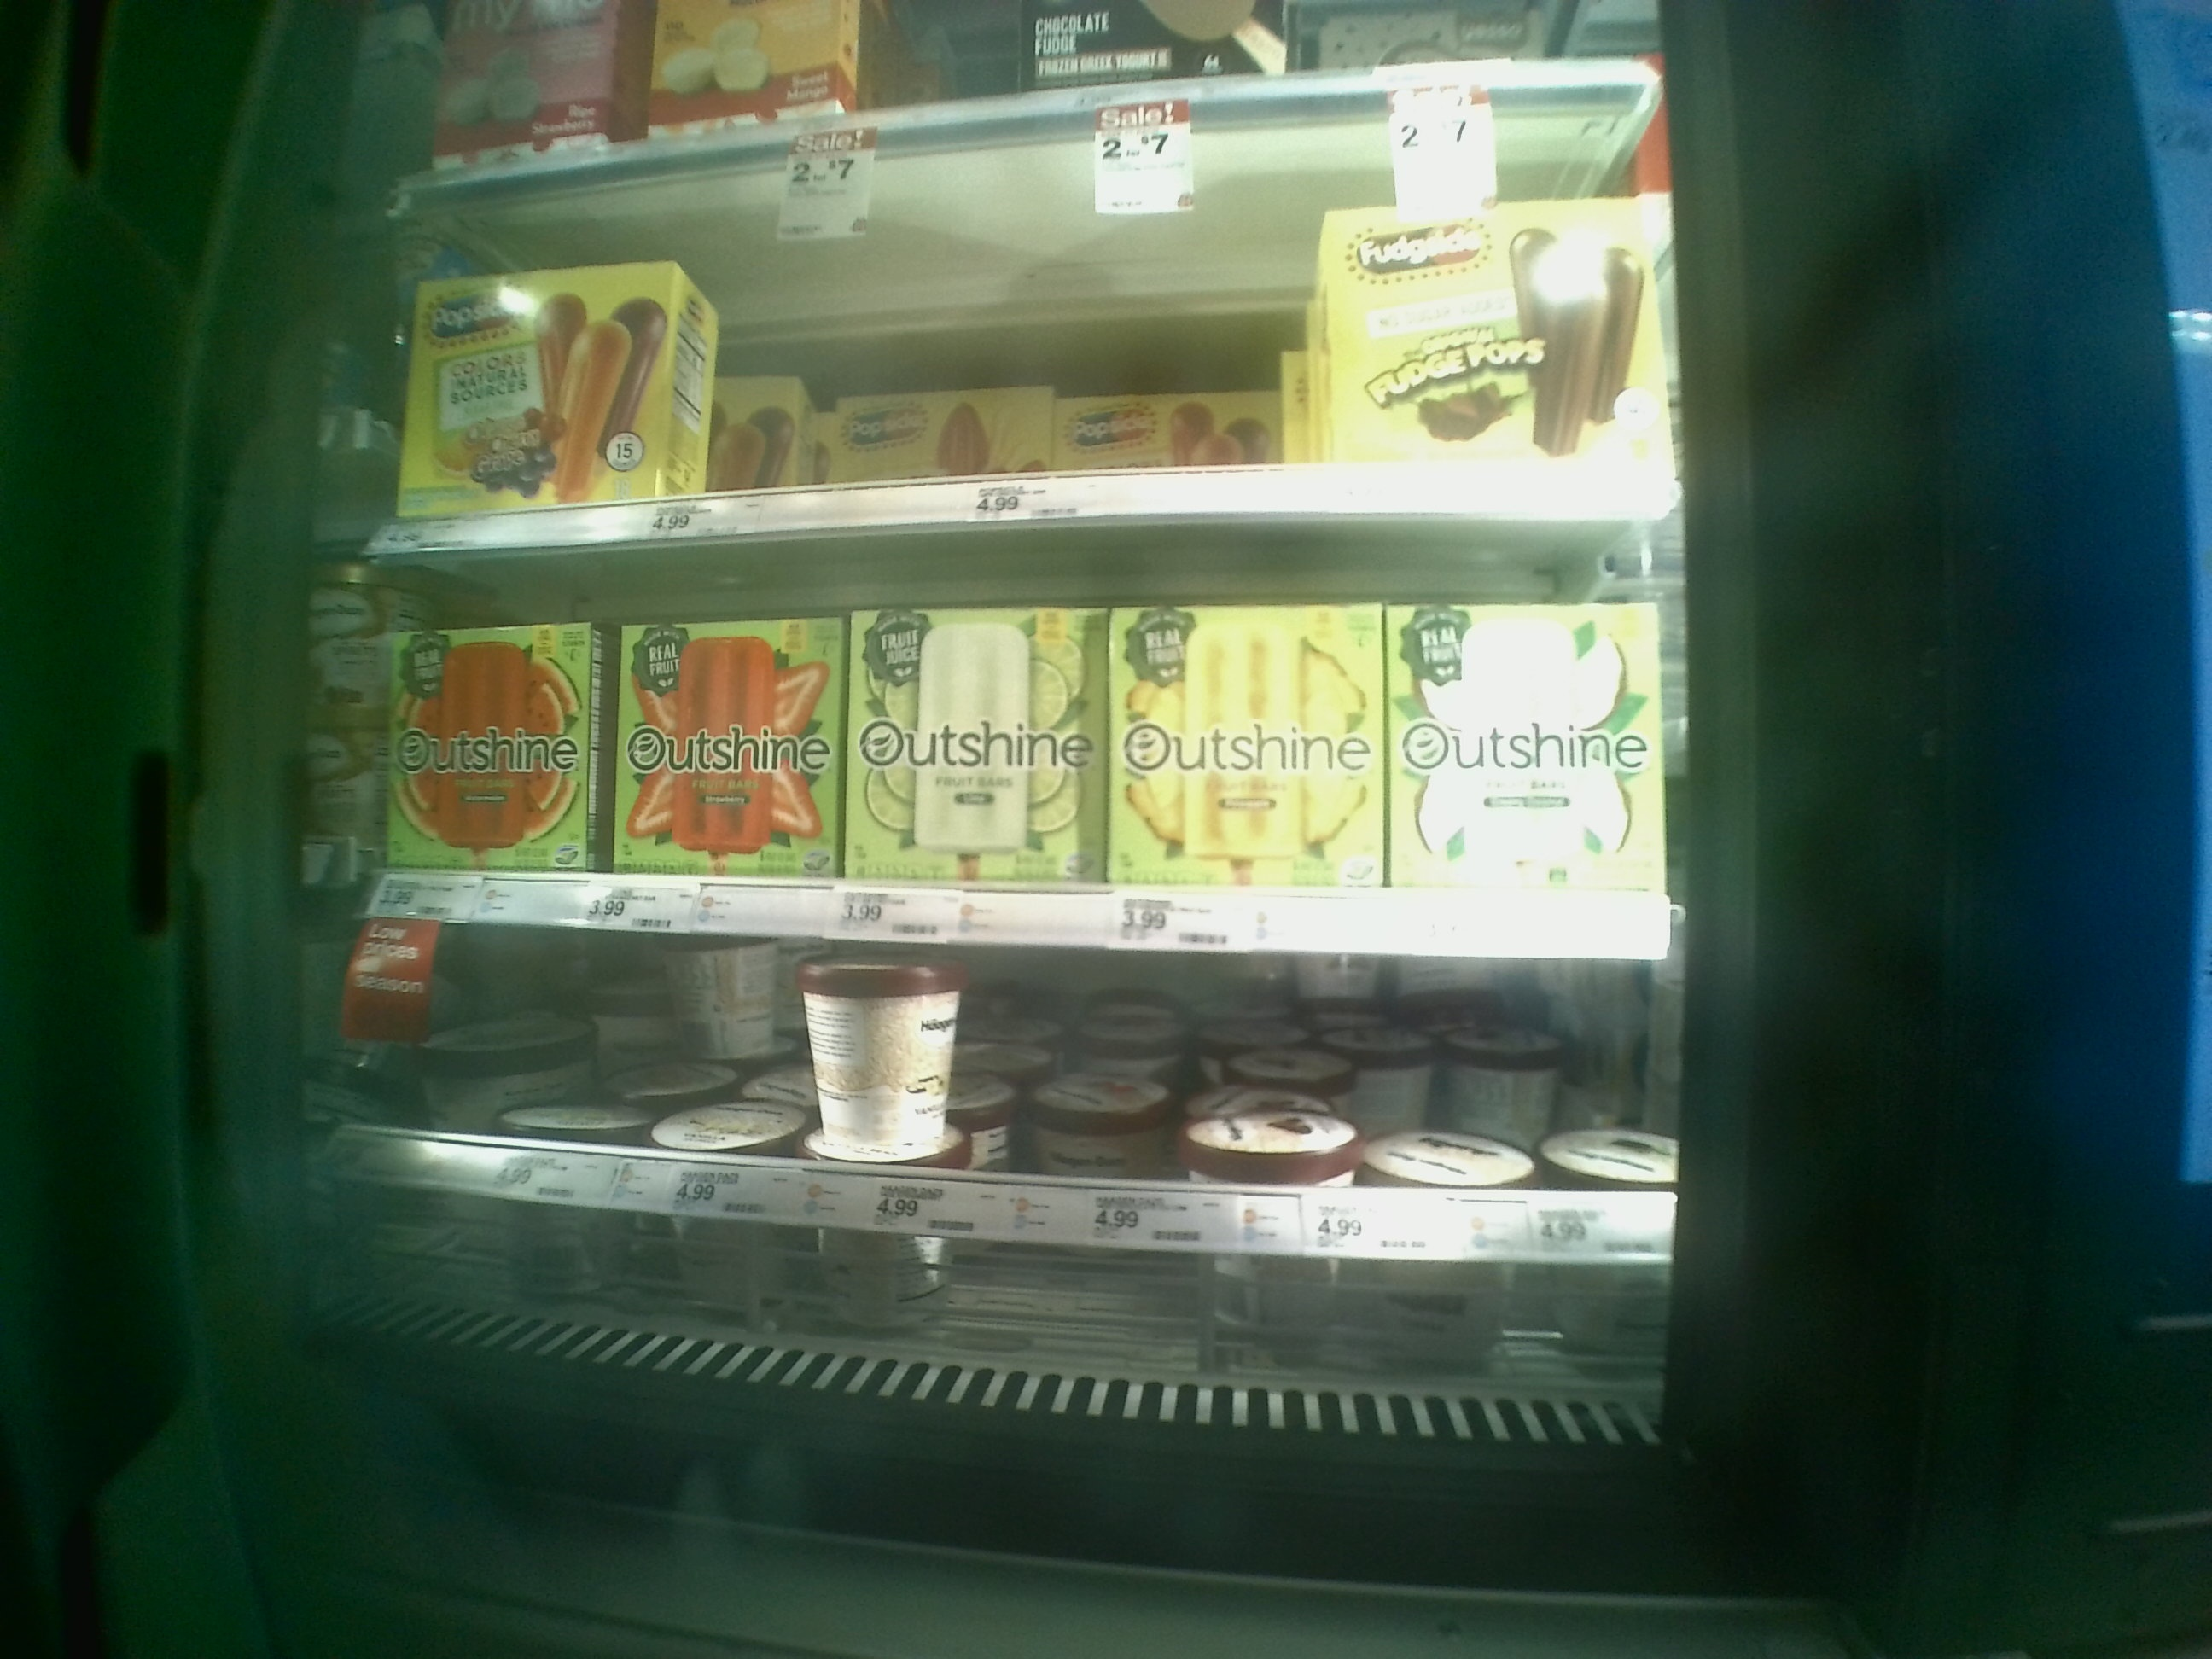ice-cream-shelf: (343, 518, 1695, 957), (355, 929, 1703, 1342), (319, 174, 1716, 533)
